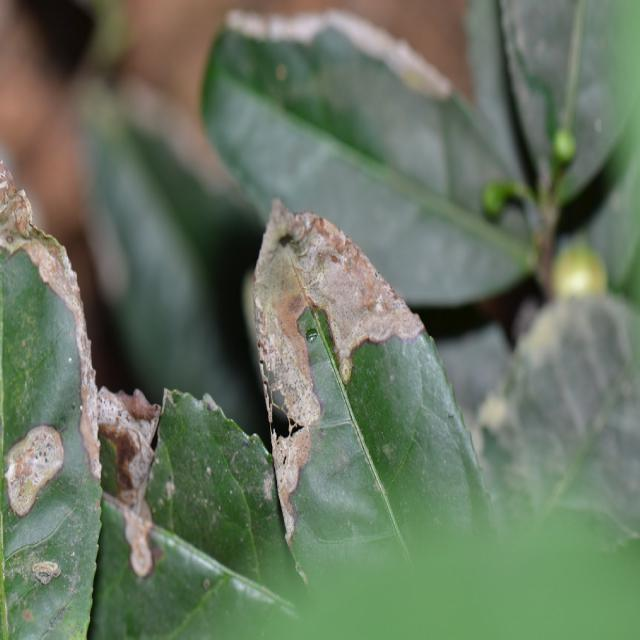Tea cloud leaf blight: (221, 201, 424, 479), (18, 204, 164, 577)
